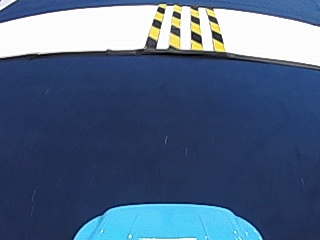bump: (141, 5, 226, 50)
